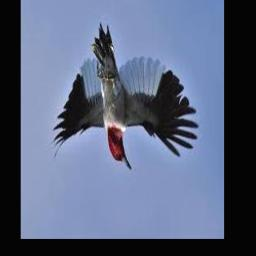Woodpecker: (52, 24, 198, 170)
